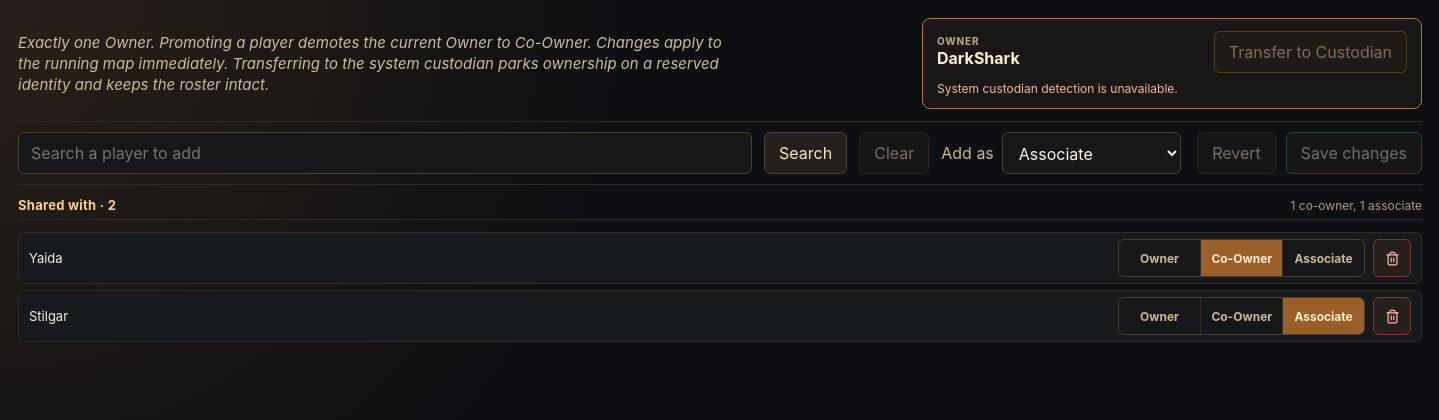
Scenario: BasePermissionsTab layout › swaps the hero and the roster on promote, and swaps them back
Click the radio button with aria-label "Owner for Yaida" at [1160, 258], box x1=1140 y1=251 x2=1179 y2=266
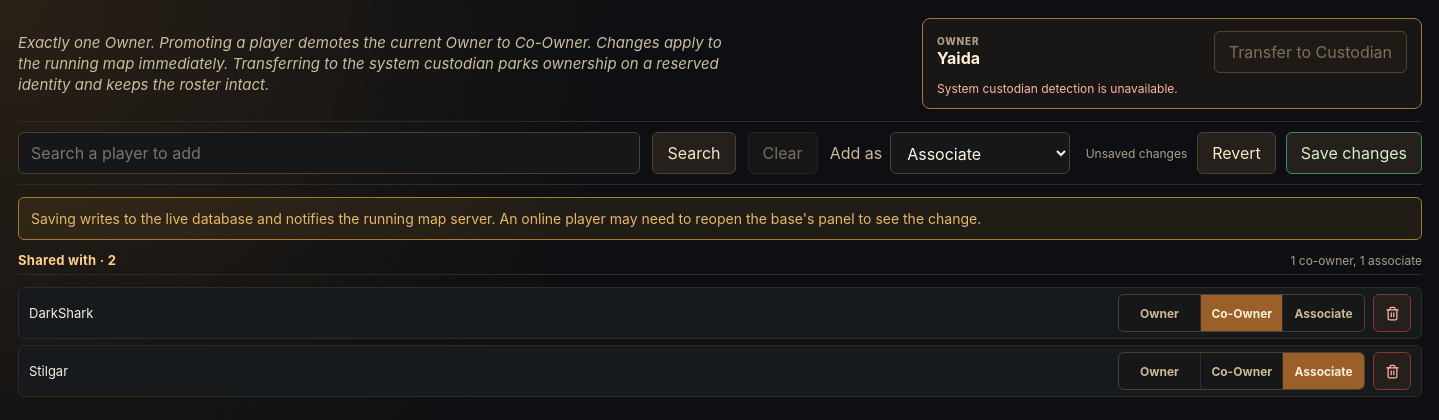
Now the text with class "bases-permissions-owner-name" reads "Yaida", box x1=937 y1=48 x2=980 y2=68
Now the radio button with aria-label "Co-Owner for DarkShark" is checked, box x1=1200 y1=295 x2=1282 y2=332
Click the radio button with aria-label "Owner for DarkShark" at [1160, 314], box x1=1140 y1=306 x2=1179 y2=321
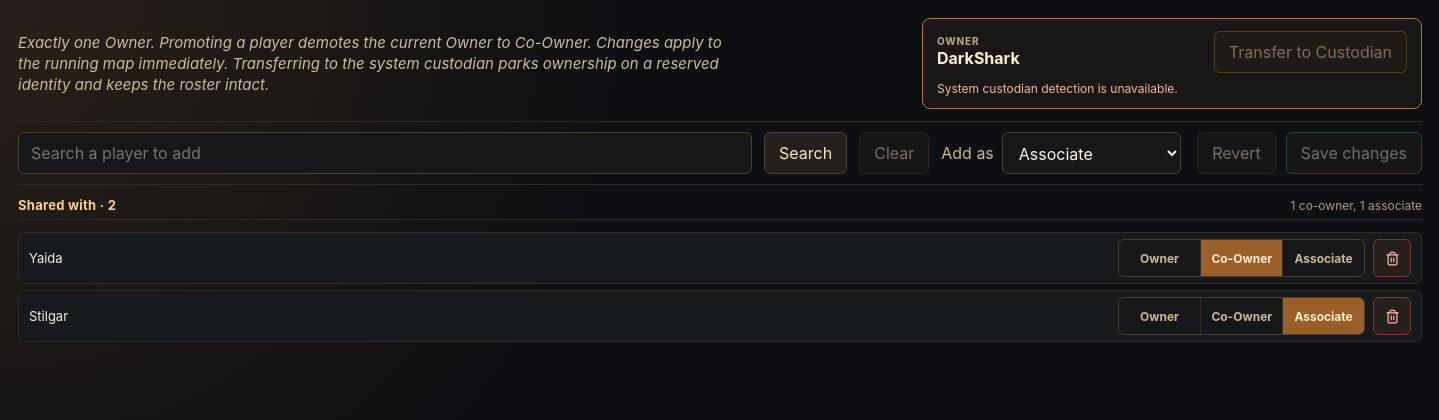
Now the text with class "bases-permissions-owner-name" reads "DarkShark", box x1=937 y1=48 x2=1020 y2=68
Now the radio button with aria-label "Co-Owner for Yaida" is checked, box x1=1200 y1=240 x2=1282 y2=277
